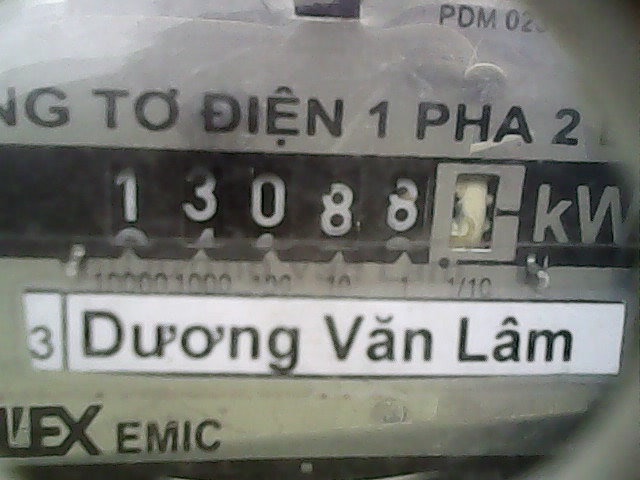phy_plate: (92, 148, 528, 270)
